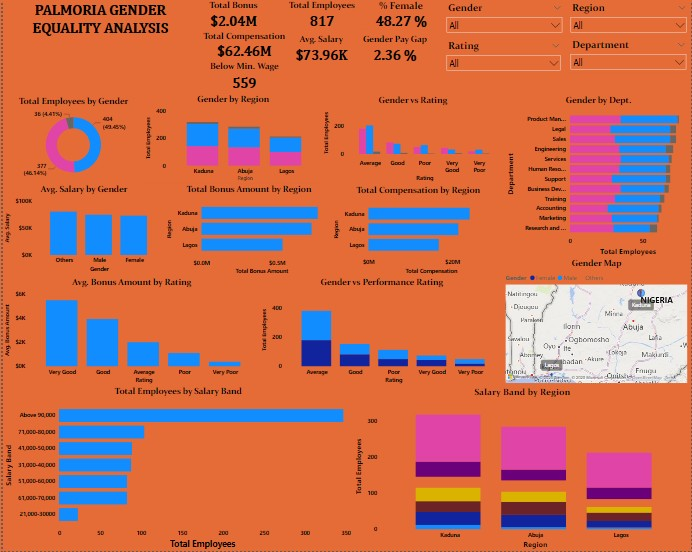

What the dashboard file says about the page in this screenshot:
{"tool":"powerbi","page":{"name":"Page 1","canvas":[1500,1200],"ordinal":0},"visuals":[{"type":"donutChart","fields":{"Category":["Employee.Gender"],"Y":["Employee.Total Employees"]},"box":[0,210,306.7,190],"z":0},{"type":"columnChart","title":"Gender by Region","fields":{"Category":["Employee.Region"],"Y":["Employee.Total Employees"],"Series":["Employee.Gender"]},"box":[307.5,205,387.5,195],"z":1000},{"type":"barChart","title":"Gender by Dept.","fields":{"Category":["Employee.Department"],"Series":["Employee.Gender"],"Y":["Employee.Total Employees"]},"box":[1093.3,206.7,406.7,355],"z":2000},{"type":"clusteredColumnChart","title":"Gender vs Rating","fields":{"Category":["Employee.Rating"],"Y":["Employee.Total Employees"],"Series":["Employee.Gender"]},"box":[695,207.5,395,192.5],"z":3000},{"type":"clusteredColumnChart","fields":{"Y":["Employee.Avg. Salary"],"Category":["Employee.Gender"]},"box":[0,400,352.5,197.5],"z":4000},{"type":"map","title":"Gender Map","fields":{"Category":["Employee.Region"],"Size":["Employee.Total Employees"],"Series":["Employee.Gender"]},"box":[1090,561.7,406.7,278.3],"z":5000},{"type":"card","title":"Total Bonus","fields":{"Values":["Employee.Total Bonus Amount"]},"box":[421.7,0,158.3,68.3],"z":6000},{"type":"barChart","fields":{"Y":["Employee.Total Bonus Amount"],"Category":["Employee.Region"]},"box":[352.5,400,365,202.5],"z":7000},{"type":"clusteredColumnChart","title":"Avg. Bonus Amount by Rating","fields":{"Category":["Employee.Rating"],"Y":["Avg(Employee.Bonus Amount)"]},"box":[0,602.5,560,237.5],"z":8000},{"type":"clusteredBarChart","fields":{"Y":["Employee.Total Compensation"],"Category":["Employee.Region"]},"box":[717.5,402.5,375,200],"z":9000},{"type":"card","title":"Avg. Salary","fields":{"Values":["Employee.Avg. Salary"]},"box":[615,75,157.5,67.5],"z":10000},{"type":"card","title":"Gender Pay Gap","fields":{"Values":["Employee.Gender Pay Gap"]},"box":[761.7,75,181.7,66.7],"z":11000},{"type":"card","title":"Below Min. Wage ","fields":{"Values":["Employee.Below MIN."]},"box":[421.7,133.3,205,73.3],"z":12000},{"type":"card","title":"Total Employees","fields":{"Values":["Employee.Total Employees"]},"box":[603.3,0,181.7,68.3],"z":13000},{"type":"slicer","fields":{"Values":["Employee.Region"]},"box":[1226.7,0,273.3,80],"z":14000},{"type":"slicer","fields":{"Values":["Employee.Department"]},"box":[1226.7,81.7,271.7,80],"z":15000},{"type":"slicer","fields":{"Values":["Employee.Rating"]},"box":[955,83.3,268.3,78.3],"z":16000},{"type":"slicer","fields":{"Values":["Employee.Gender"]},"box":[955,0,271.7,81.7],"z":17000},{"type":"barChart","fields":{"Y":["Employee.Total Employees"],"Category":["Employee.Salary Band"]},"box":[0,840,762.5,360],"z":18000},{"type":"textbox","box":[0,0,421.7,150],"z":19000},{"type":"card","title":"% Female","fields":{"Values":["Employee.% Female"]},"box":[776.7,0,178.3,65],"z":20000},{"type":"card","title":"Total Compensation","fields":{"Values":["Employee.Total Compensation"]},"box":[421.7,68.3,205,65],"z":21000},{"type":"columnChart","title":"Gender vs Performance Rating","fields":{"Series":["Employee.Gender"],"Y":["Employee.Total Employees"],"Category":["Employee.Rating"]},"box":[560,602.5,530,237.5],"z":22000},{"type":"columnChart","title":"Salary Band by Region","fields":{"Series":["Employee.Salary Band"],"Y":["Employee.Total Employees"],"Category":["Employee.Region"]},"box":[762.5,840,737.5,360],"z":23000}]}

Visuals, with their boxes in screenshot pixels (x1, y1, x2, y2), scaled from the page's 1500x1200 canvas onto the 692x552 screenshot:
donutChart - Employee.Gender x Employee.Total Employees: bbox(0, 97, 141, 184)
"Gender by Region" columnChart: bbox(142, 94, 321, 184)
"Gender by Dept." barChart: bbox(504, 95, 691, 258)
"Gender vs Rating" clusteredColumnChart: bbox(321, 95, 503, 184)
clusteredColumnChart - Employee.Avg. Salary x Employee.Gender: bbox(0, 184, 163, 275)
"Gender Map" map: bbox(503, 258, 690, 386)
"Total Bonus" card: bbox(195, 0, 268, 31)
barChart - Employee.Total Bonus Amount x Employee.Region: bbox(163, 184, 331, 277)
"Avg. Bonus Amount by Rating" clusteredColumnChart: bbox(0, 277, 258, 386)
clusteredBarChart - Employee.Total Compensation x Employee.Region: bbox(331, 185, 504, 277)
"Avg. Salary" card: bbox(284, 34, 356, 66)
"Gender Pay Gap" card: bbox(351, 34, 435, 65)
"Below Min. Wage " card: bbox(195, 61, 289, 95)
"Total Employees" card: bbox(278, 0, 362, 31)
slicer - Employee.Region: bbox(566, 0, 691, 37)
slicer - Employee.Department: bbox(566, 38, 691, 74)
slicer - Employee.Rating: bbox(441, 38, 564, 74)
slicer - Employee.Gender: bbox(441, 0, 566, 38)
barChart - Employee.Total Employees x Employee.Salary Band: bbox(0, 386, 352, 551)
textbox: bbox(0, 0, 195, 69)
"% Female" card: bbox(358, 0, 441, 30)
"Total Compensation" card: bbox(195, 31, 289, 61)
"Gender vs Performance Rating" columnChart: bbox(258, 277, 503, 386)
"Salary Band by Region" columnChart: bbox(352, 386, 691, 551)
